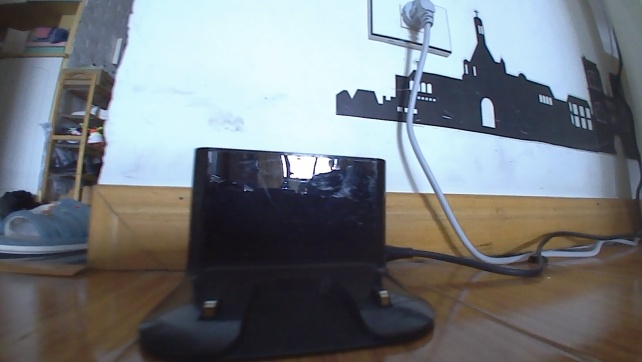charger: (135, 140, 440, 361), (610, 30, 641, 212)
slipper: (0, 193, 94, 257)
wire: (395, 219, 641, 280), (403, 5, 469, 218)
